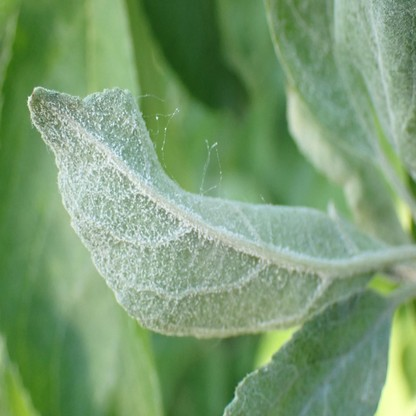powdery_mildew: (27, 86, 389, 339), (224, 287, 391, 416), (264, 2, 378, 161), (331, 0, 415, 165)
